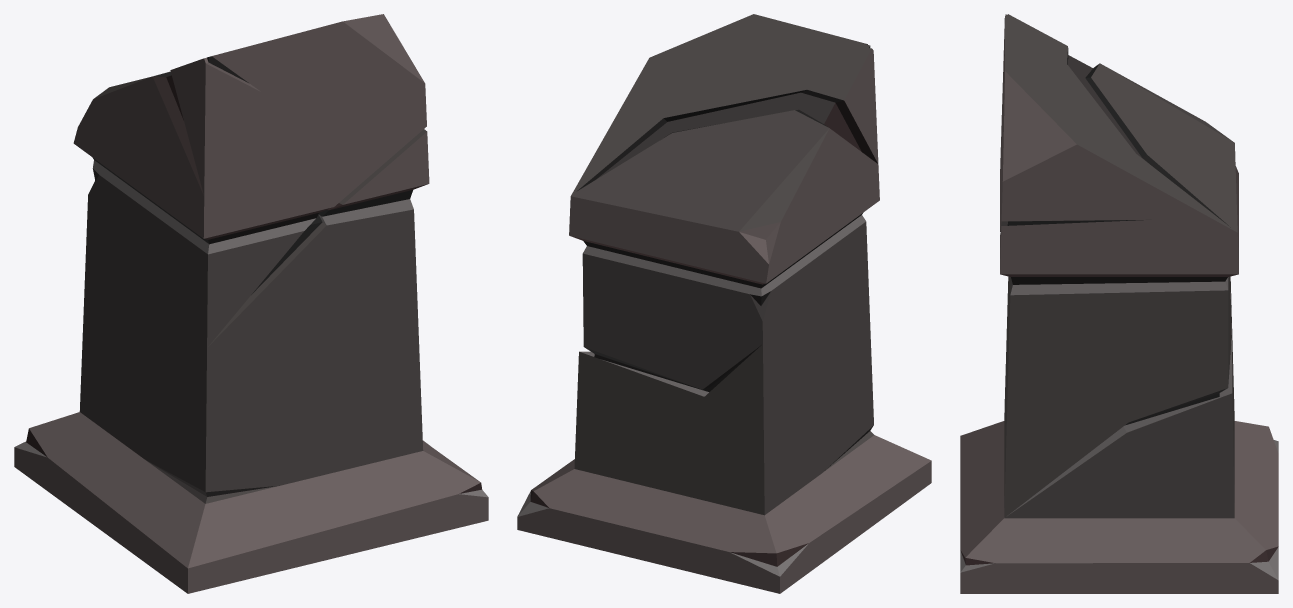
The model's file is Pillar_Quad_Half_01.glb.
3 renders of one model, left to right at view 1: azimuth 30°, elevation 25°; view 2: azimuth 150°, elevation 25°; view 3: azimuth 270°, elevation 25°, orthographic. The views are drawn at different scales.
Parts seen in each view (by area): view 1: Pillar_Quad_Half_01; view 2: Pillar_Quad_Half_01; view 3: Pillar_Quad_Half_01.
Boxes of the visible parts, bbox=[...] form: Pillar_Quad_Half_01: bbox=[14, 14, 488, 593]; Pillar_Quad_Half_01: bbox=[517, 14, 931, 593]; Pillar_Quad_Half_01: bbox=[960, 14, 1278, 593].
Size of what is drawn, in the model's own units: 1.02 by 1.66 by 1.02.
Materials: 1 (1 with a texture image).
